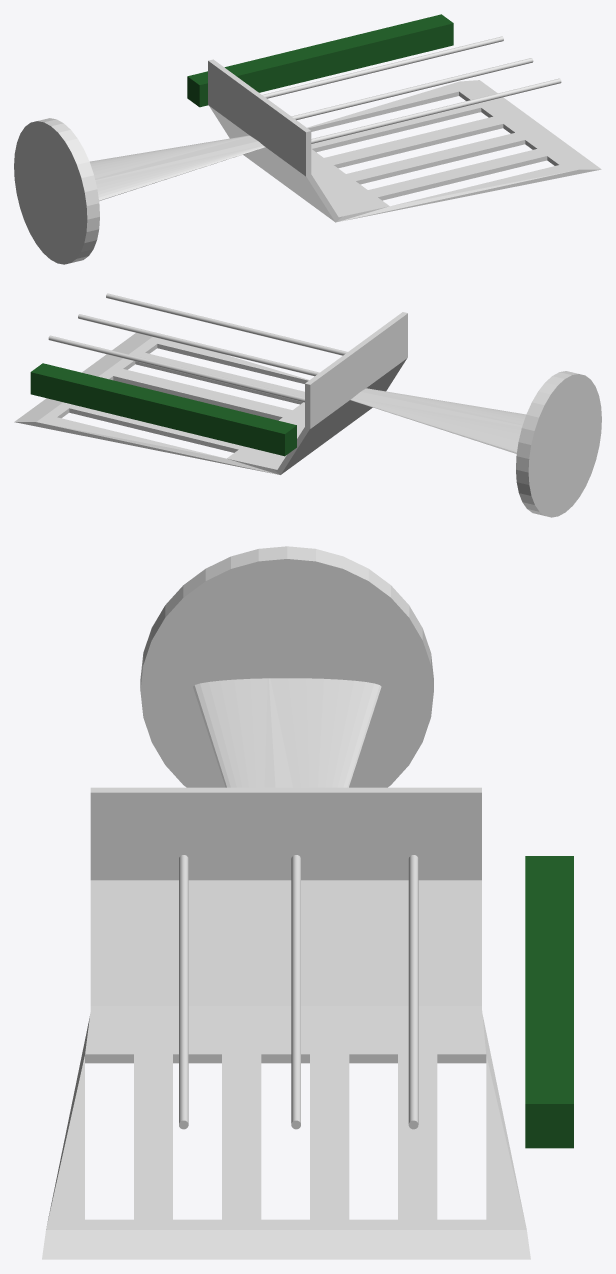
Rendered from fixed_spatula.dae.
3 renders of one model, top to bottom at view 1: azimuth 30°, elevation 25°; view 2: azimuth 150°, elevation 25°; view 3: azimuth 270°, elevation 25°, orthographic. The views are drawn at different scales.
Parts seen in each view (by area): view 1: Cylinder.001; view 2: Cylinder.001; view 3: Cylinder.001.
Boxes of the visible parts, box(x1,y1,x2,y2) form: Cylinder.001: box(14, 14, 601, 264); Cylinder.001: box(14, 293, 601, 517); Cylinder.001: box(42, 546, 573, 1259).
Size of the model in its own units: 0.2315 by 0.1088 by 0.06.
